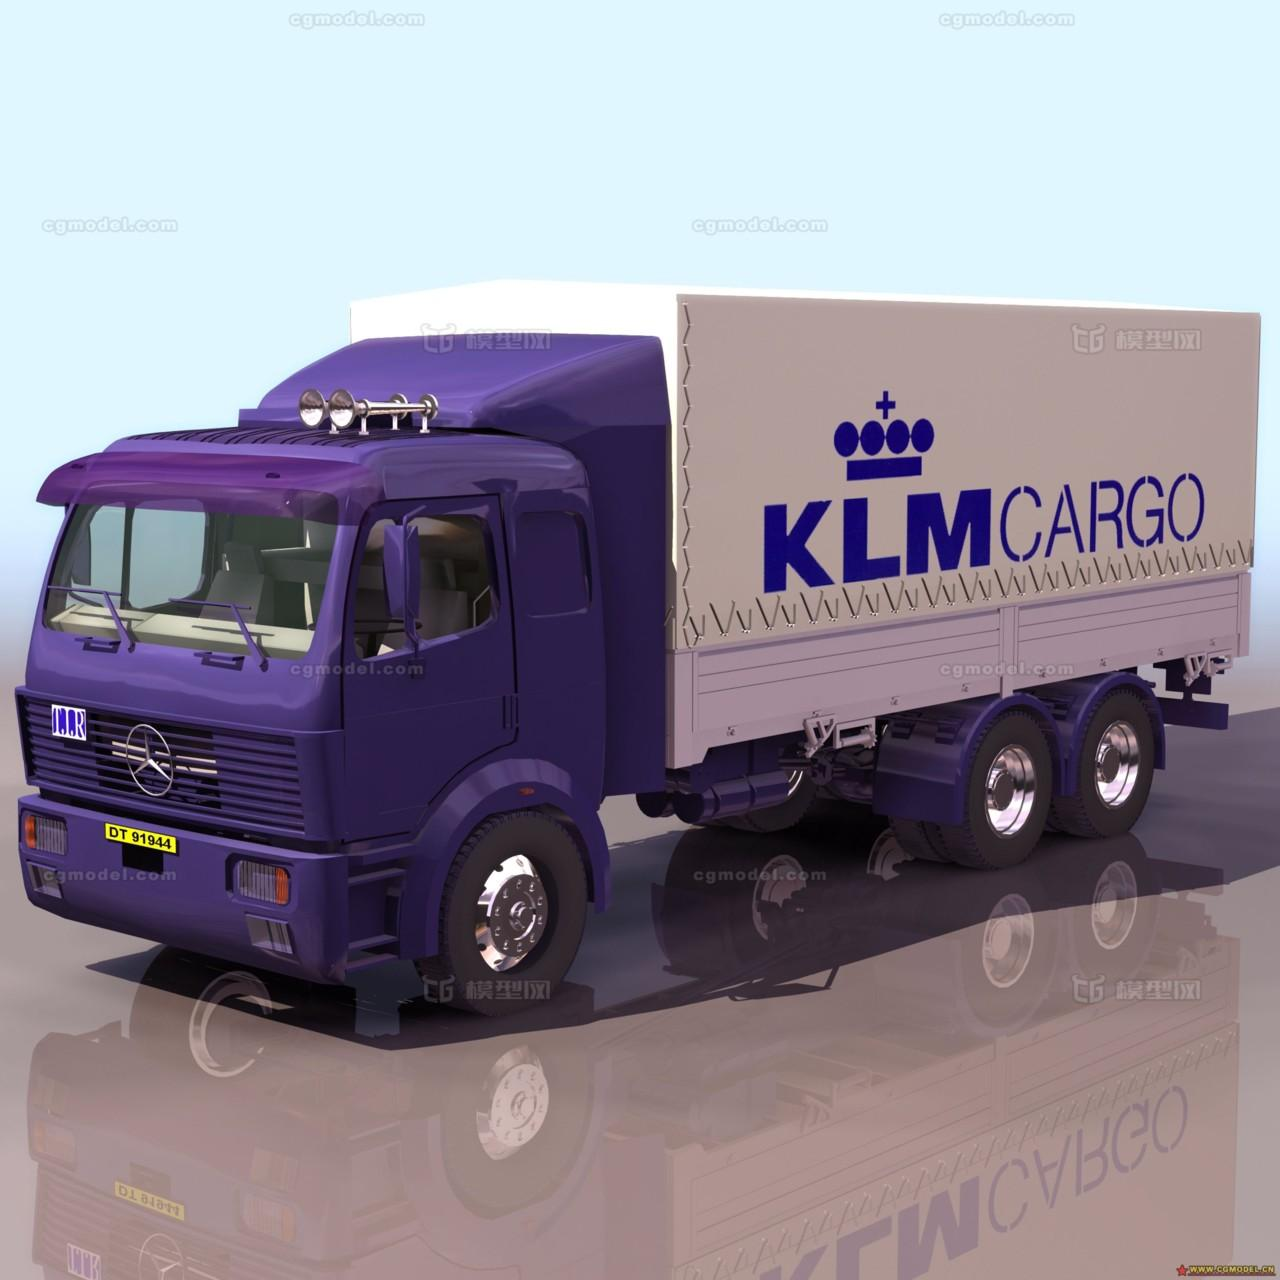truck: (7, 210, 1267, 1046)
